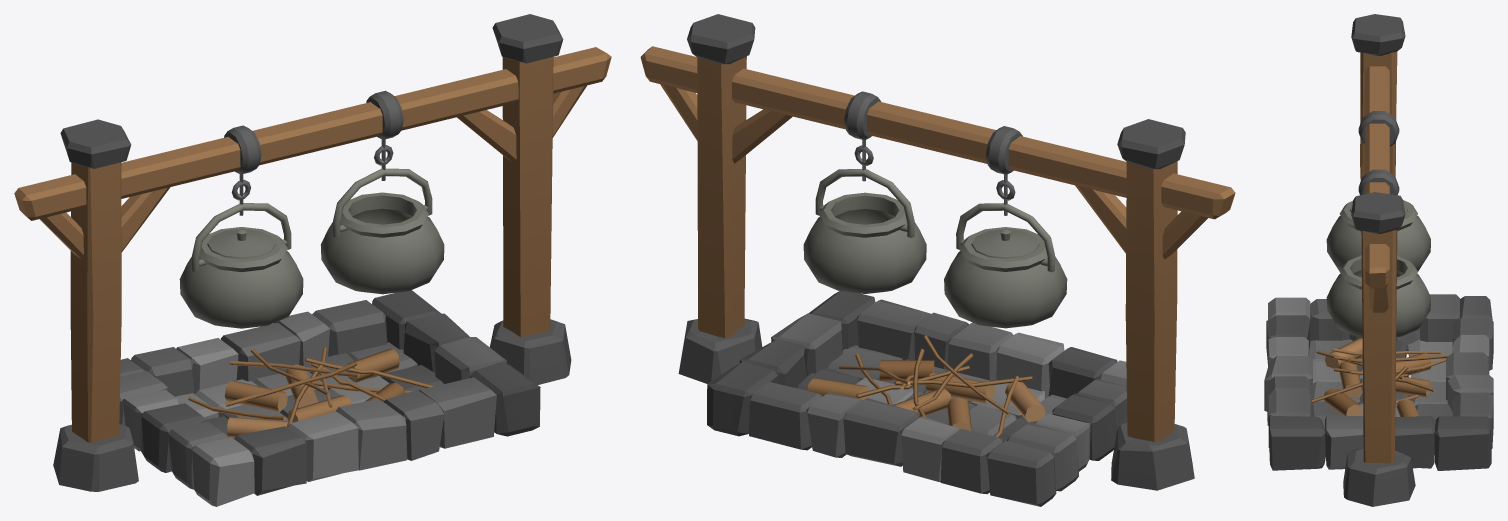
Rendered from Cook_C.fbx.
3 views of the same model, side by side, from view 1: azimuth 30°, elevation 25°; view 2: azimuth 150°, elevation 25°; view 3: azimuth 270°, elevation 25° (orthographic). The views are drawn at different scales.
Visible parts, largest first — view 1: Cook_C; view 2: Cook_C; view 3: Cook_C.
Part boxes in pixels (x1,y1,x2,y2): Cook_C: (14, 14, 611, 506); Cook_C: (640, 14, 1235, 506); Cook_C: (1264, 14, 1493, 506).
Size of the model in its own units: 401 by 223 by 160.
